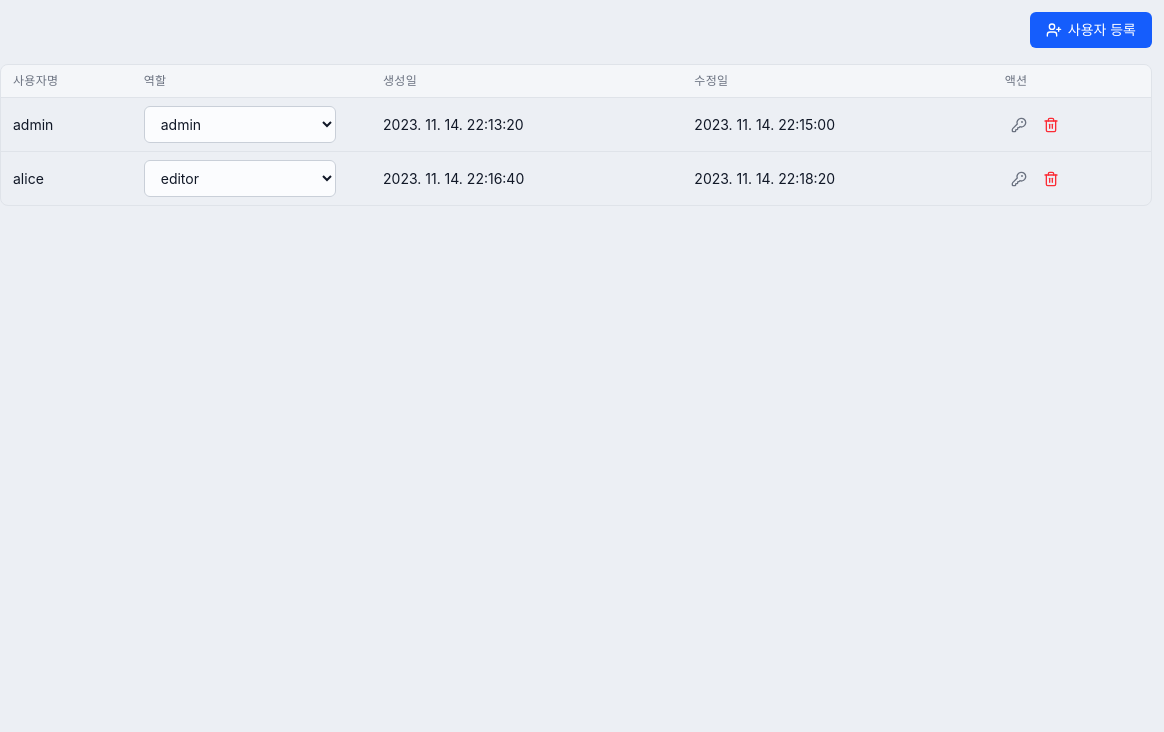
UsersPanel 등록 폼 (AC-03) › 409 USER_EXISTS 거부 시 원인을 안내하고 폼을 닫지 않는다
Expected: the row with test id "admin-user-row-alice" is shown, [1,152,1151,205]
Click the button "사용자 등록": (1091, 30) [1030,12,1152,48]
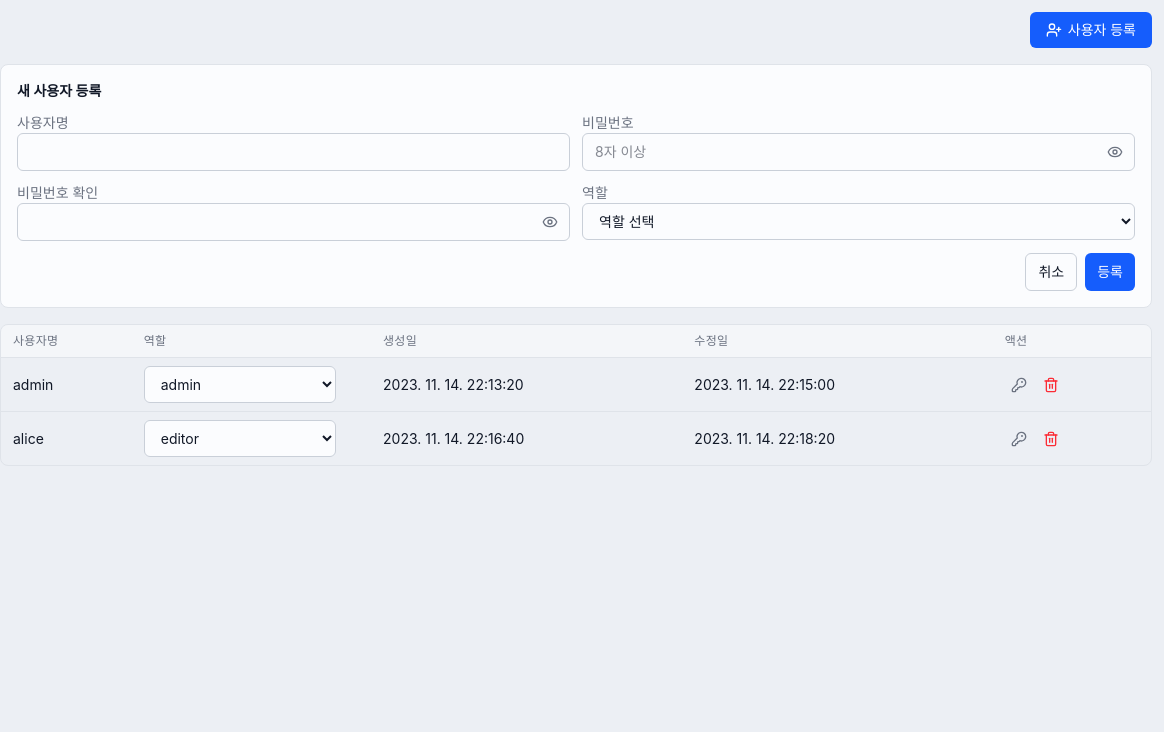
In the field: (294, 152) [17,133,570,171], type "admin"
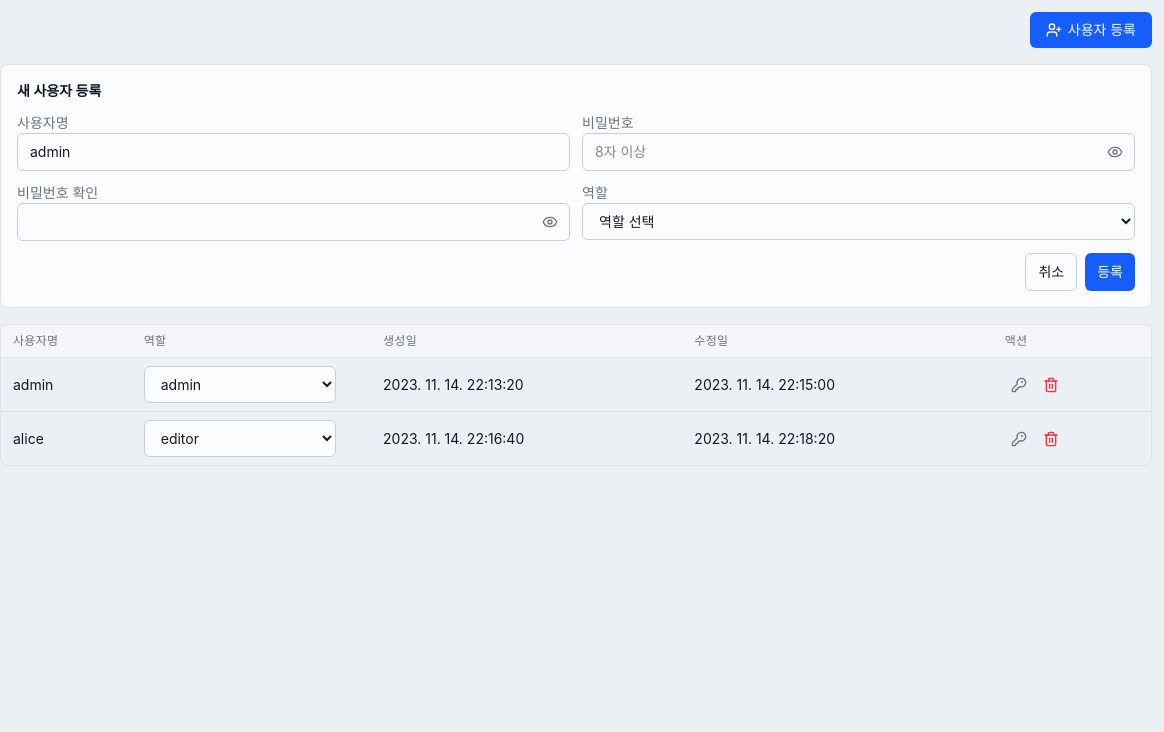
In the password field with placeholder "8자 이상": (858, 152) [582,133,1135,171], type "secret-password"
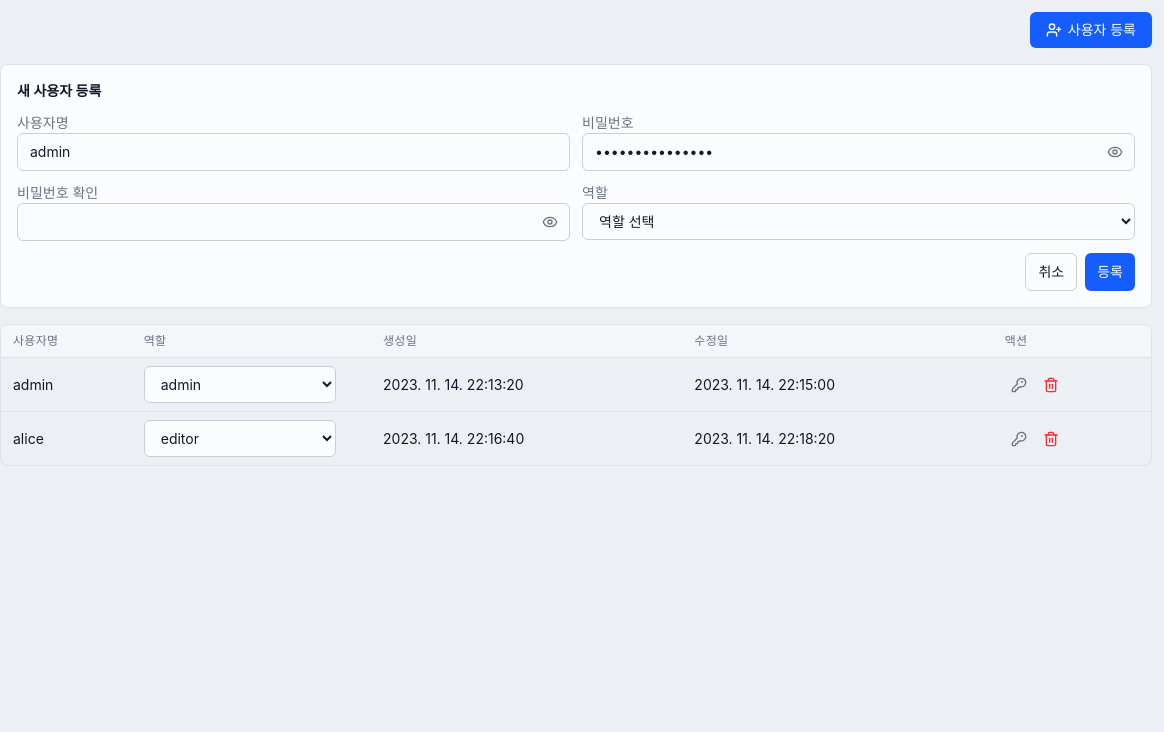
In the password field labelled "비밀번호 확인": (294, 222) [17,203,570,241], type "secret-password"
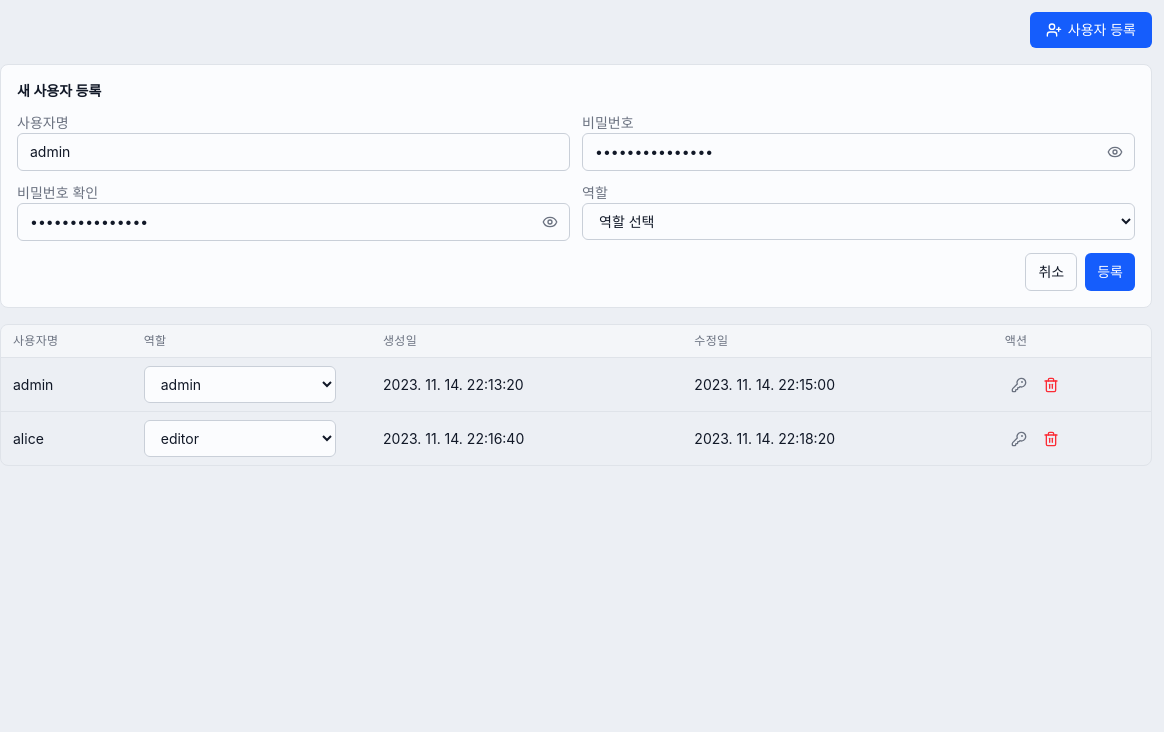
Select "admin" in the dropdown labelled "역할": (858, 222) [582,203,1135,240]
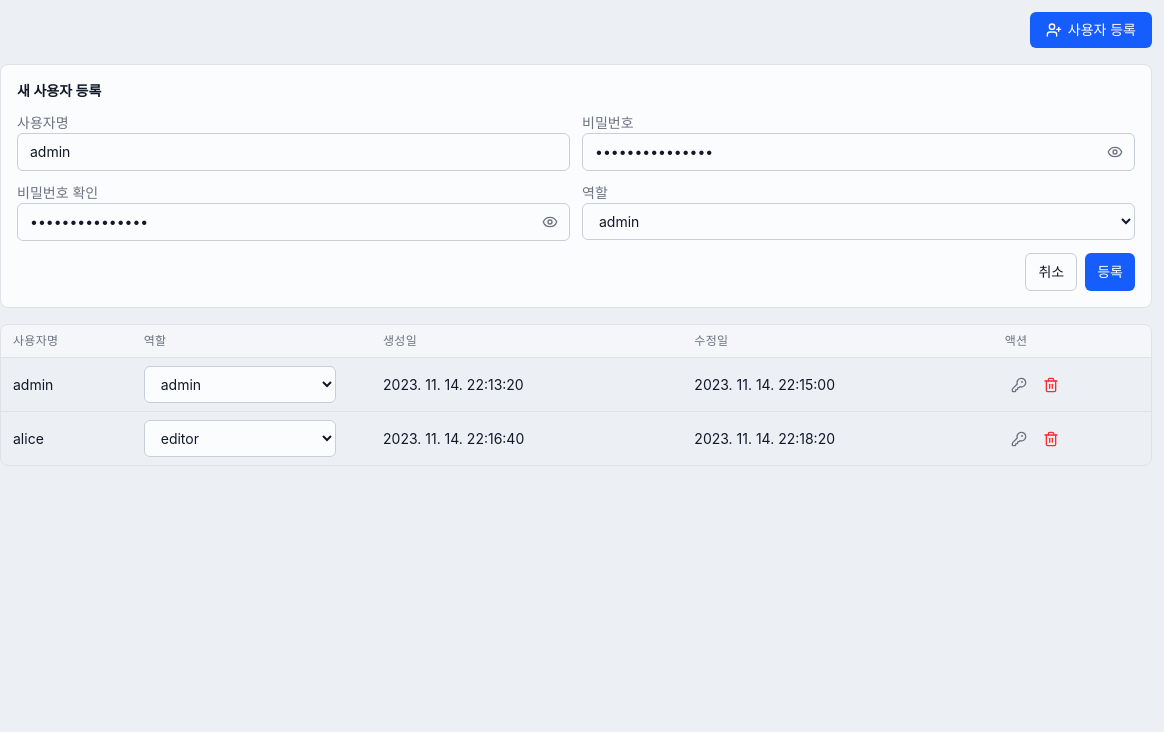
Click the button "등록": (1110, 272) [1085,253,1135,291]
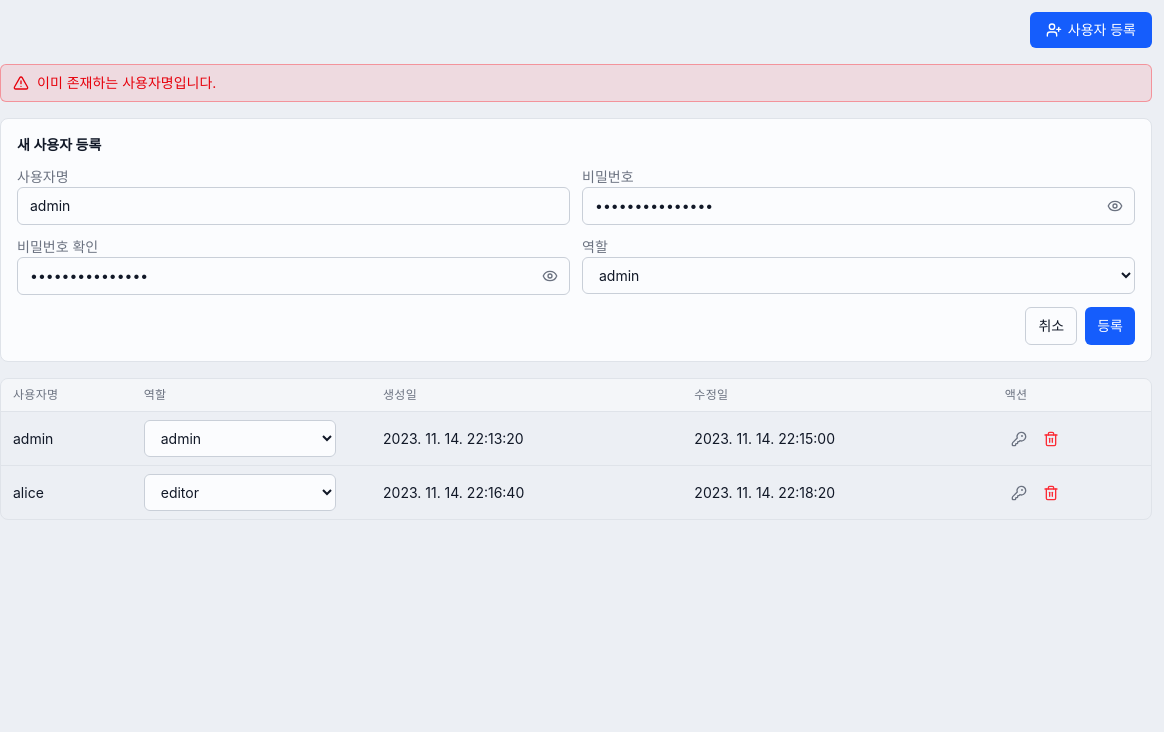
Result: the form with test id "admin-users-create-form" is shown at [0,118,1152,362]
Result: the message with test id "admin-action-error" reads "이미 존재하는 사용자명입니다." at [37,74,216,91]
